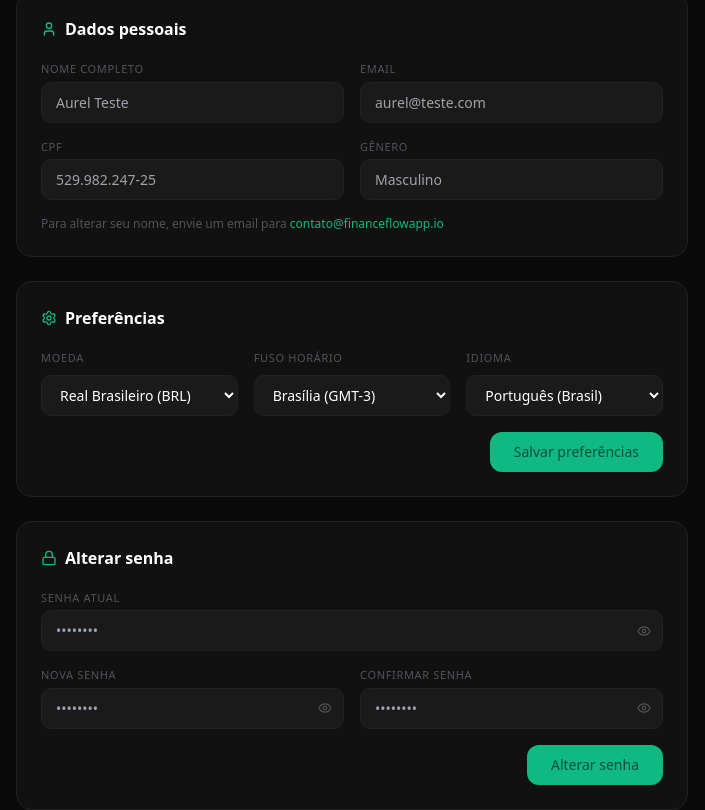
Scenario: ProfilePage › deve exibir erro ao submeter senhas que não coincidem
(page scrolled)
Type "SenhaAtual@123" into the password field labelled "Senha atual" at coordinates (352, 630), box [41,610,663,651]
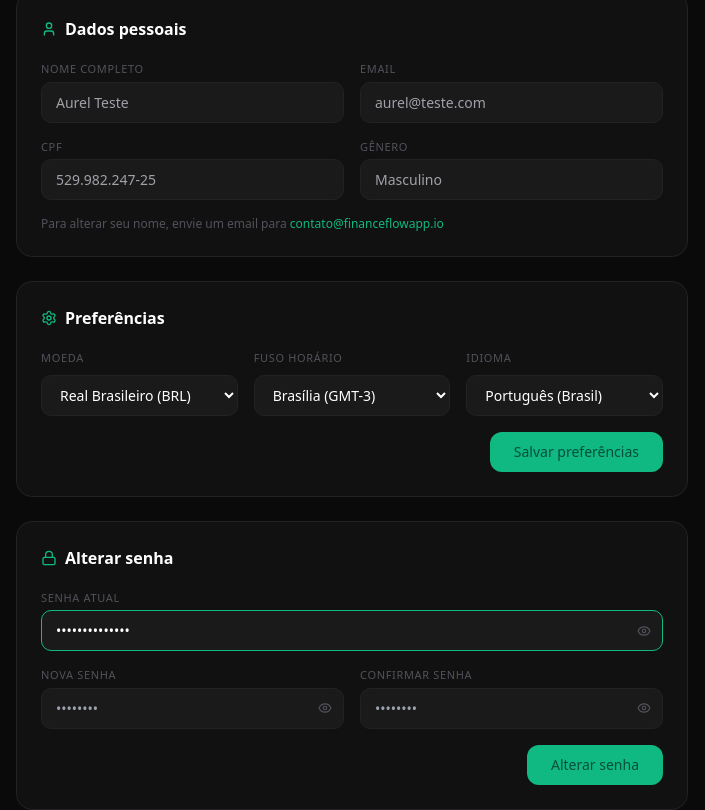
Type "NovaSenha@123" into the password field labelled "Nova senha" at coordinates (192, 708), box [41,688,344,728]
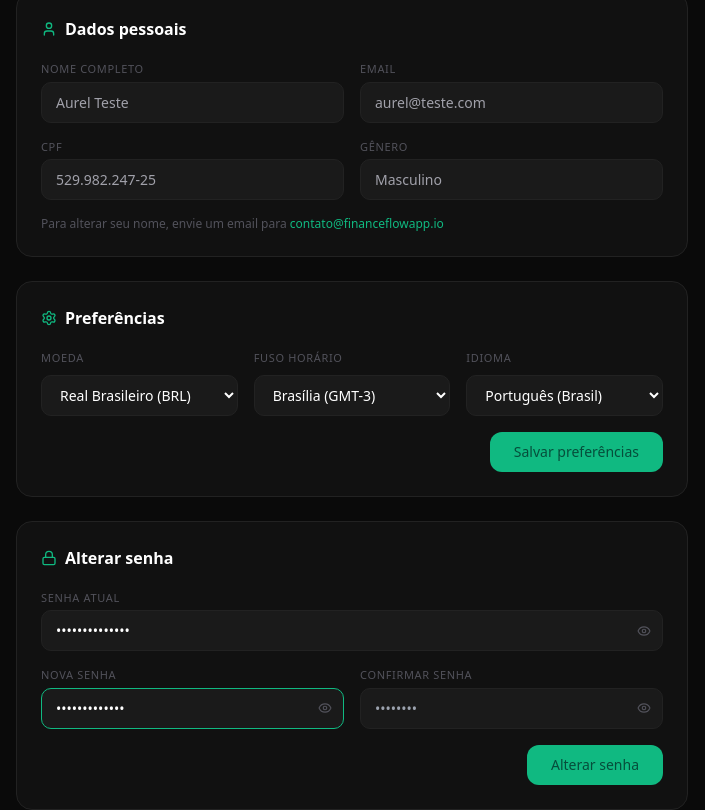
Type "Diferente@123" into the password field labelled "Confirmar senha" at coordinates (512, 708), box [360,688,663,728]
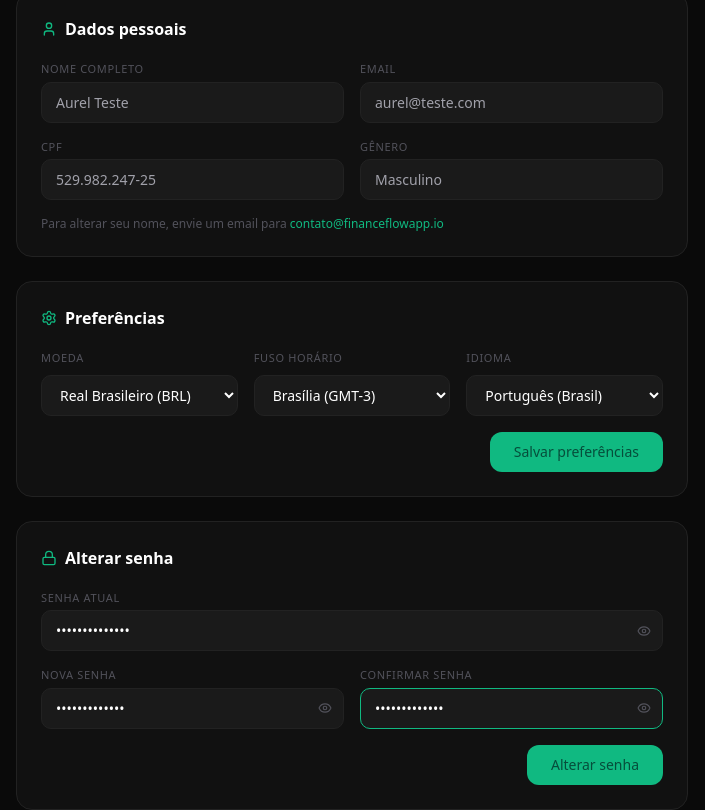
Click the button "Alterar senha" at coordinates (595, 764), box [527,744,663,784]
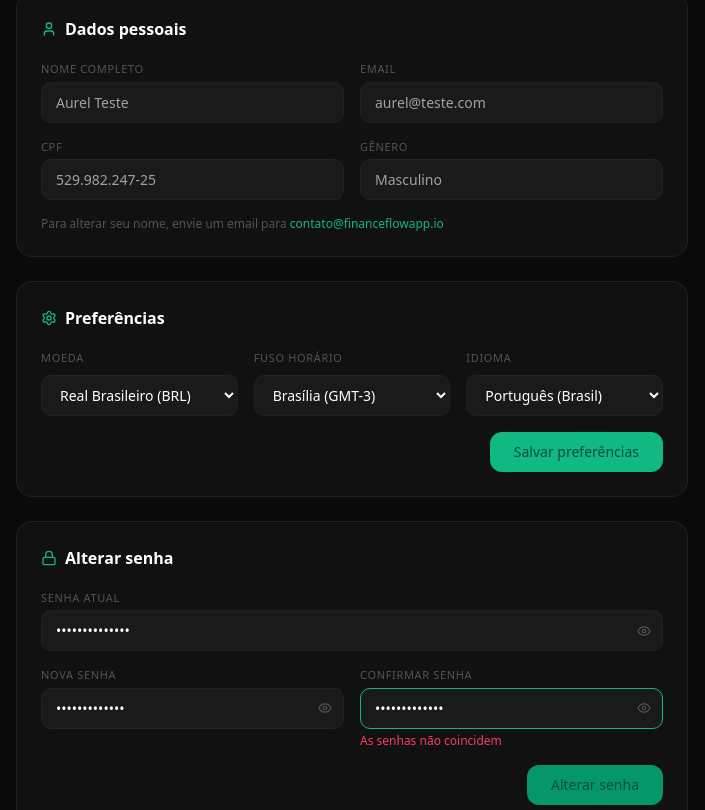
Check: the text "As senhas não coincidem" is shown, box [360,732,502,748]
